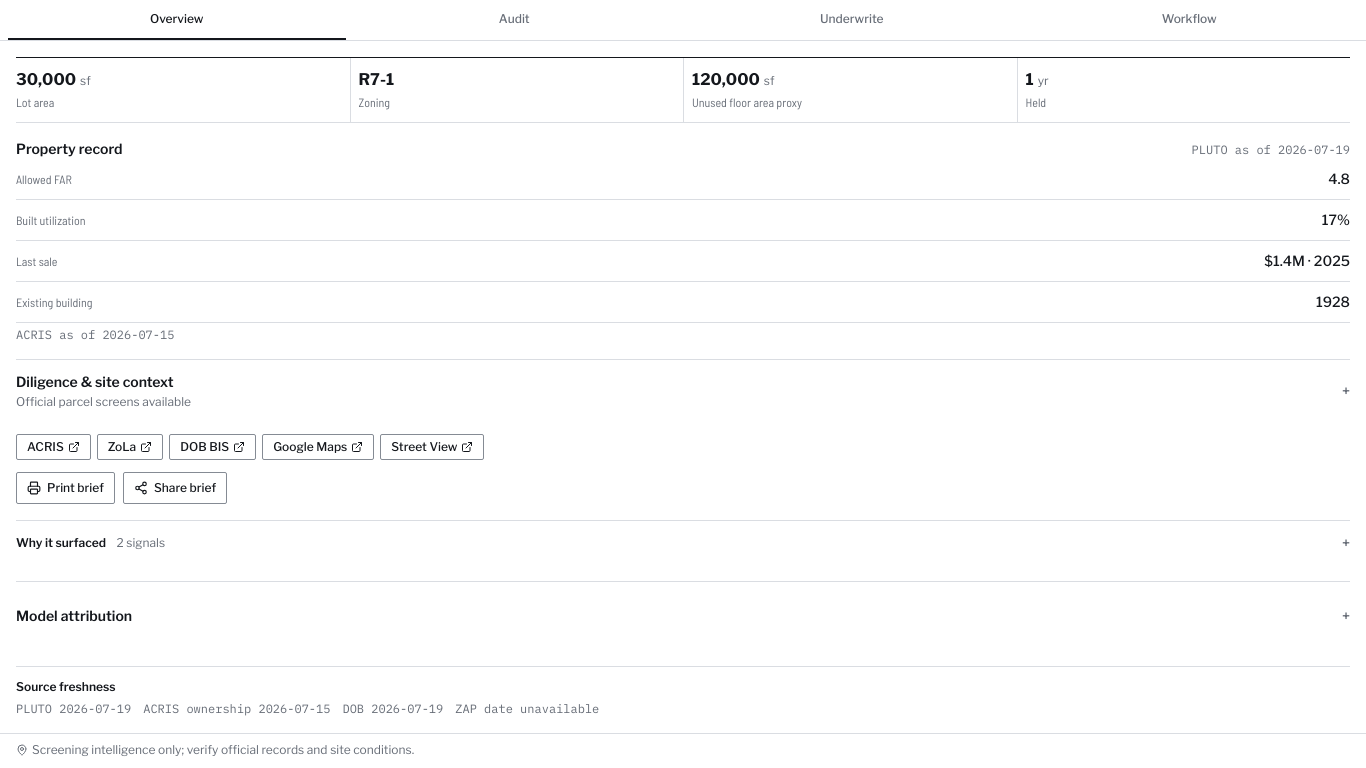
Test case: ParcelIntelPropertyPanel › explains model factors without presenting activity records as completed buildings
(page scrolled)
Click the heading "Model attribution". click: x=74, y=616
box: top-left (16, 607), bottom-right (132, 624)
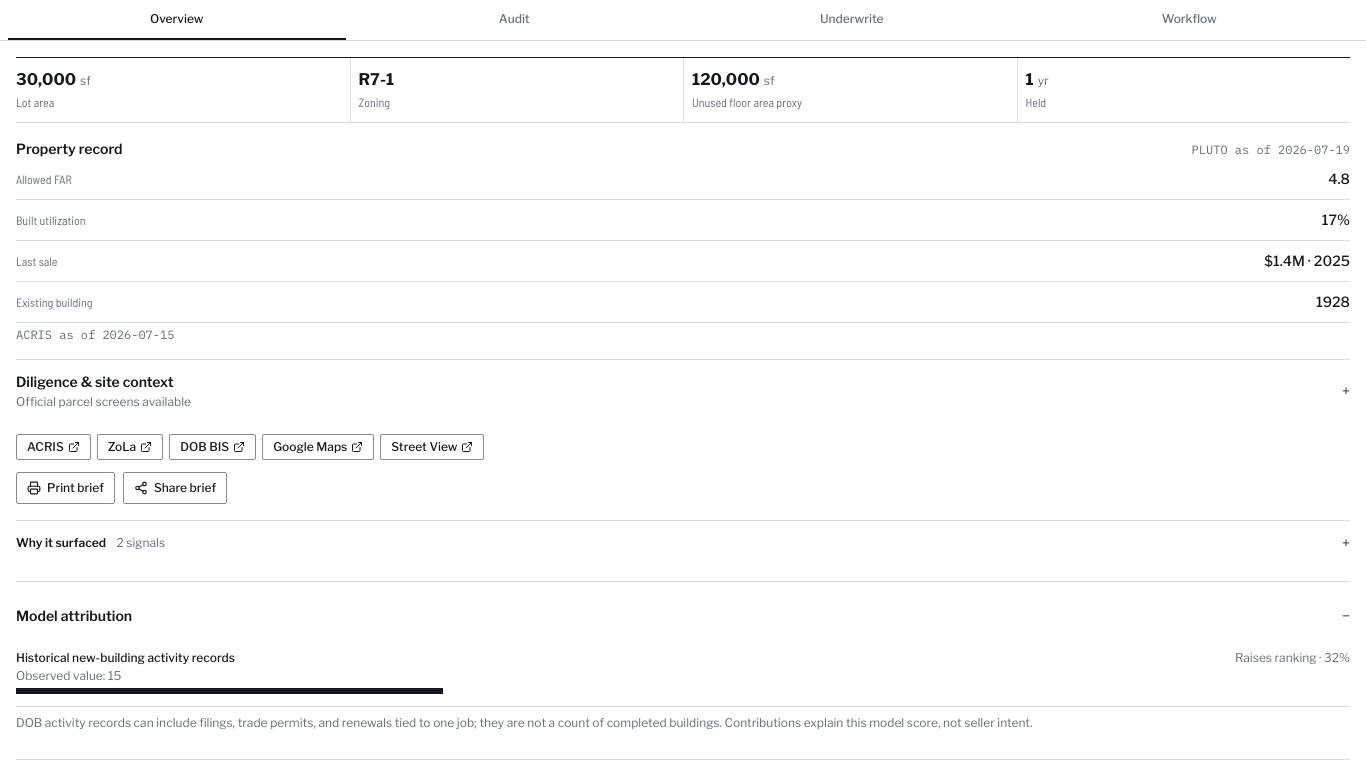
expect the text "Historical new-building activity records" is shown: met, box top-left (16, 650), bottom-right (235, 666)
expect the text "Observed value: 15" is shown: met, box top-left (16, 668), bottom-right (121, 683)
expect the text "Contributions explain this model score" is shown: met, box top-left (16, 715), bottom-right (1032, 730)
